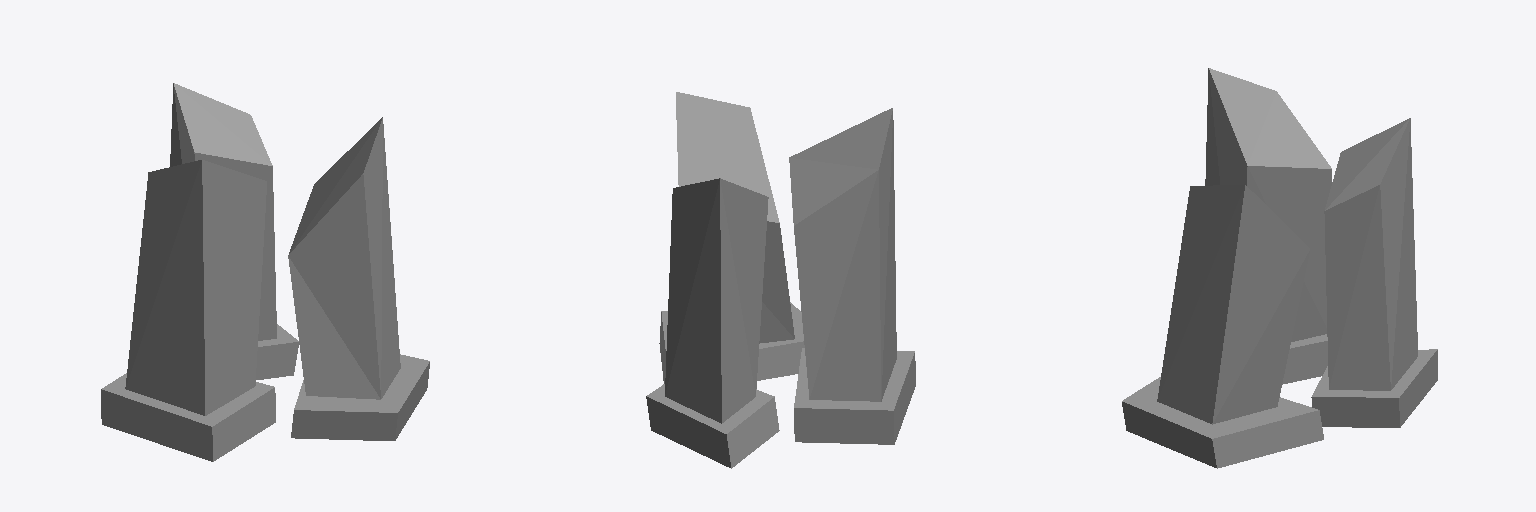
Rendered from CrystalContainedQuads.obj.
The picture shows the model from 3 angles: view 1: azimuth 30°, elevation 25°; view 2: azimuth 150°, elevation 25°; view 3: azimuth 270°, elevation 25°; orthographic projection.
Visible parts, largest first — view 1: Cube; view 2: Cube; view 3: Cube.
Boxes of the visible parts, box(x1,y1,x2,y2) form: Cube: box(101, 83, 429, 461); Cube: box(646, 92, 915, 468); Cube: box(1122, 68, 1437, 468).
Bounding box in the file's own units: 1.15 × 1.13 × 1.12.